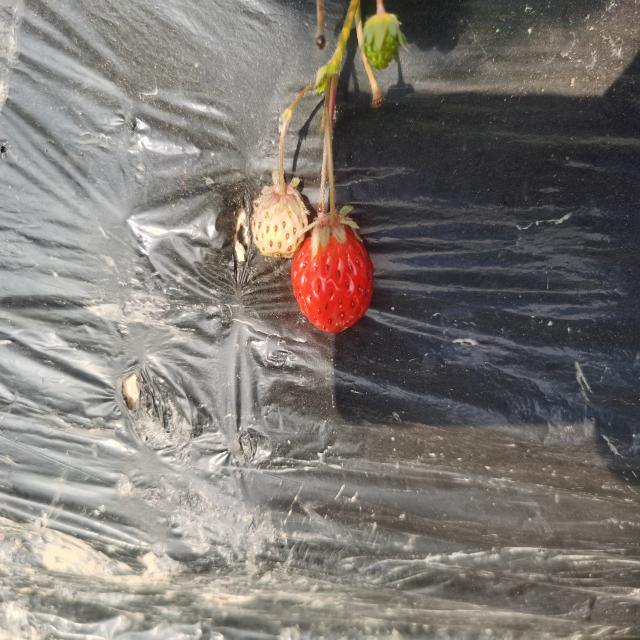stem: (329, 169, 335, 228)
strawberry: (291, 214, 374, 334)
